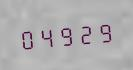four: (37, 22, 55, 50)
nine: (56, 20, 74, 49), (94, 17, 112, 45)
two: (75, 19, 93, 47)
zero: (18, 24, 36, 52)
